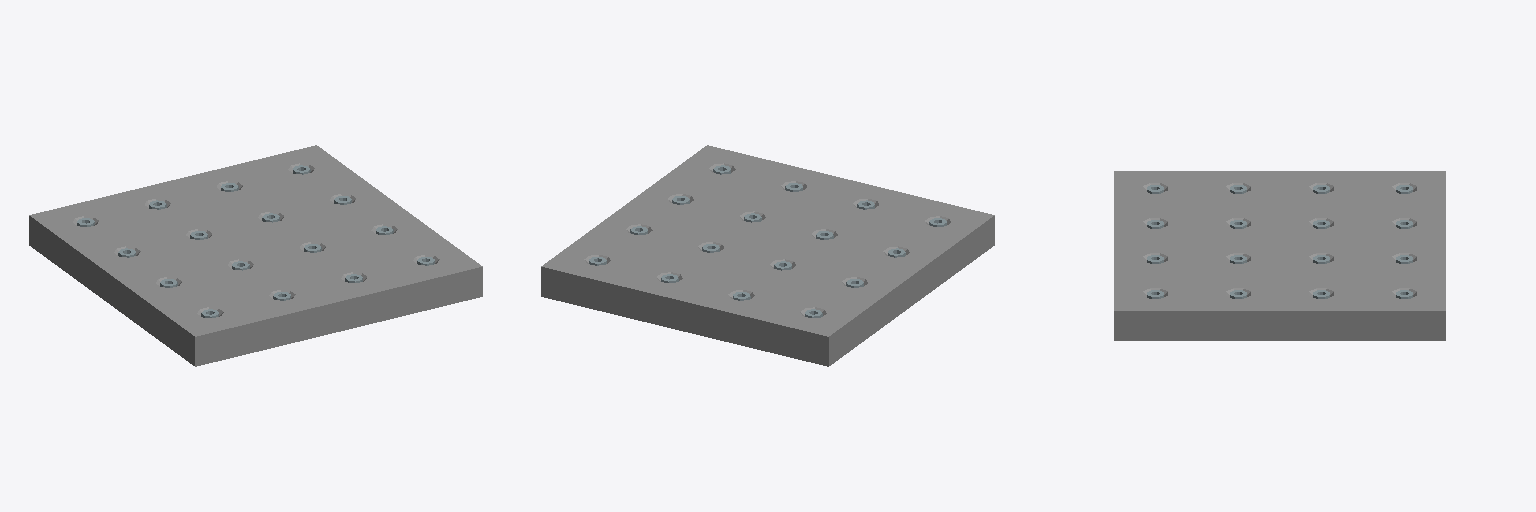
The model's file is traps3.obj.
The picture shows the model from 3 angles: view 1: azimuth 30°, elevation 25°; view 2: azimuth 150°, elevation 25°; view 3: azimuth 270°, elevation 25°; orthographic projection.
Visible parts, largest first — view 1: trap_floor_pipes_34, trap_floor_pipes_37, trap_floor_pipes_35, trap_floor_pipes_36; view 2: trap_floor_pipes_35, trap_floor_pipes_36, trap_floor_pipes_34, trap_floor_pipes_37; view 3: trap_floor_pipes_36, trap_floor_pipes_37, trap_floor_pipes_34, trap_floor_pipes_35.
Boxes of the visible parts, box(x1,y1,x2,y2) form: trap_floor_pipes_34: box(112, 241, 338, 366); trap_floor_pipes_37: box(257, 206, 482, 331); trap_floor_pipes_35: box(29, 180, 254, 305); trap_floor_pipes_36: box(173, 145, 398, 240); trap_floor_pipes_35: box(685, 241, 911, 366); trap_floor_pipes_36: box(541, 206, 766, 331); trap_floor_pipes_34: box(769, 180, 994, 305); trap_floor_pipes_37: box(625, 145, 850, 240); trap_floor_pipes_36: box(1280, 241, 1445, 340); trap_floor_pipes_37: box(1114, 241, 1279, 340); trap_floor_pipes_34: box(1114, 171, 1279, 240); trap_floor_pipes_35: box(1280, 171, 1445, 240).
Bounding box in the file's own units: 2 × 0.2 × 2.